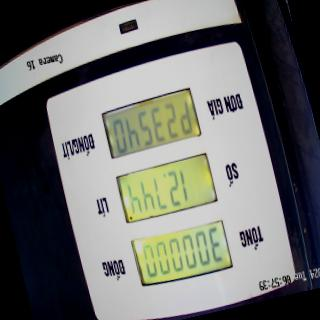screen: (97, 82, 236, 292)
